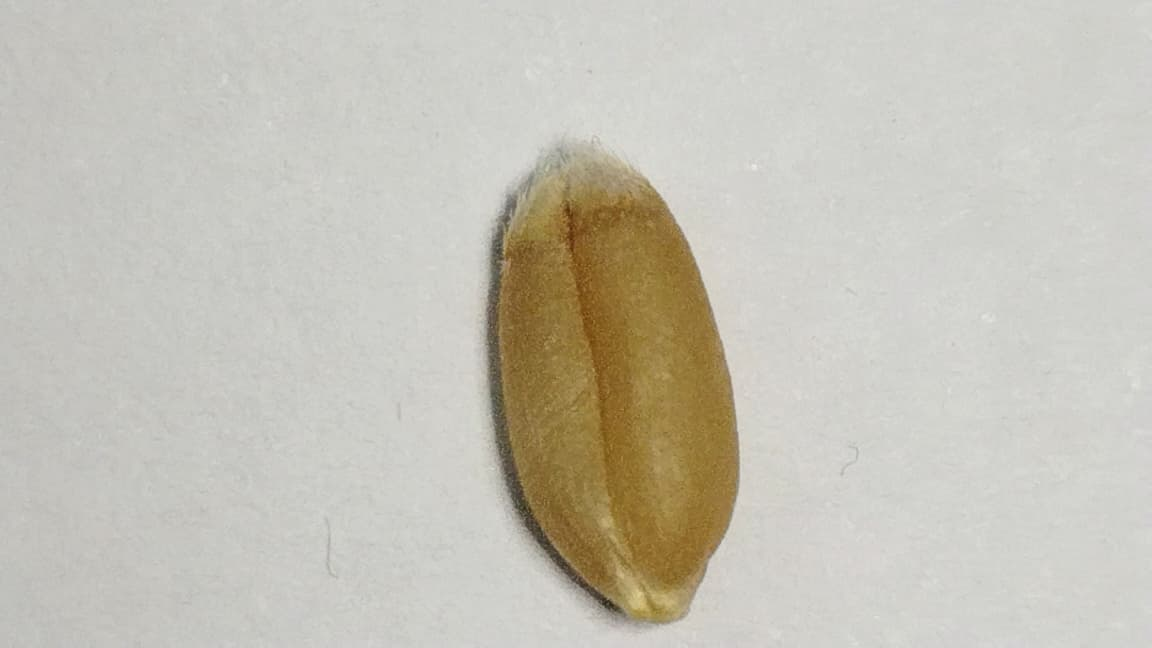healthy: (490, 142, 737, 621)
